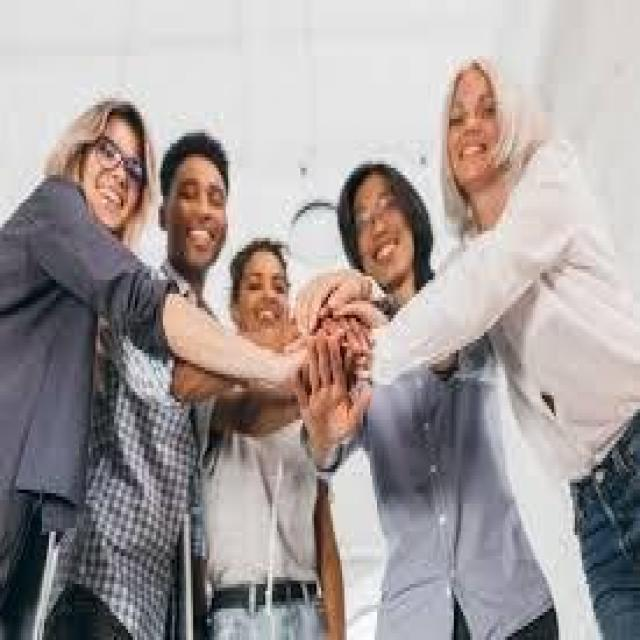person: (402, 35, 638, 581), (305, 123, 556, 636), (12, 52, 193, 598), (114, 88, 247, 636), (216, 234, 347, 636)
